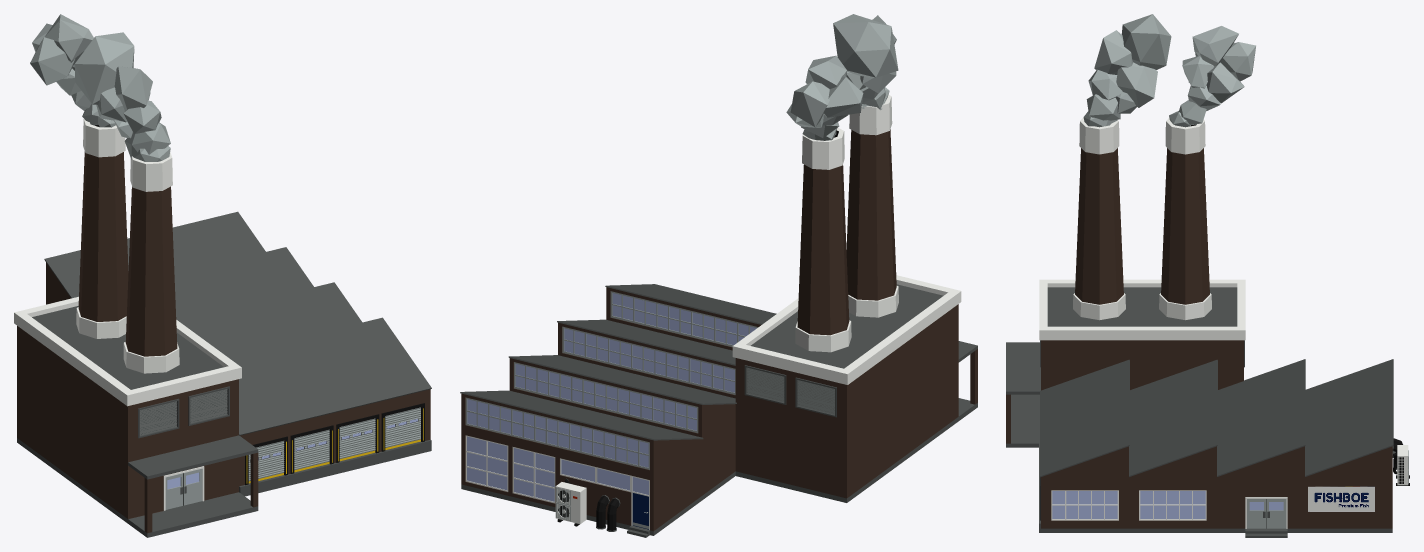
The model's file is factory_draco.glb.
The picture shows the model from 3 angles, left to right: view 1: azimuth 30°, elevation 25°; view 2: azimuth 150°, elevation 25°; view 3: azimuth 270°, elevation 25°; orthographic projection. The views are drawn at different scales.
Parts seen in each view (by area): view 1: Factory_0; view 2: Factory_0; view 3: Factory_0.
Part boxes in pixels (<box>): Factory_0: <box>14,14,431,537</box>; Factory_0: <box>460,14,977,537</box>; Factory_0: <box>1006,14,1409,537</box>.
Bounding box in the file's own units: 10.18 × 13.44 × 12.39.
1 material, 1 textured.
